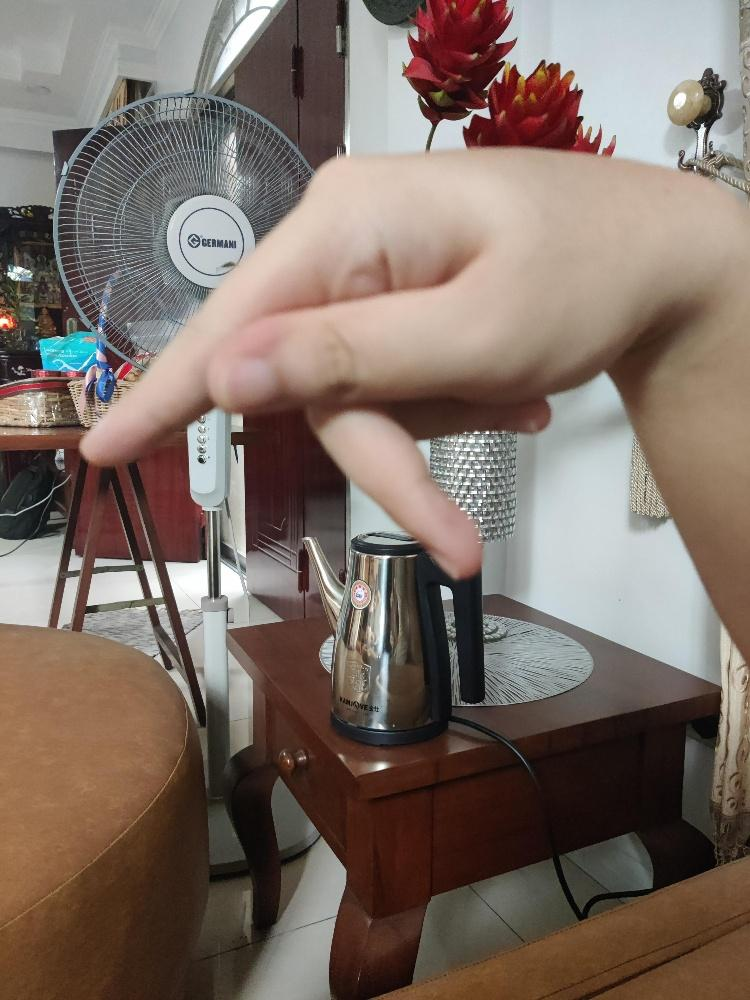p: (78, 141, 653, 583)
